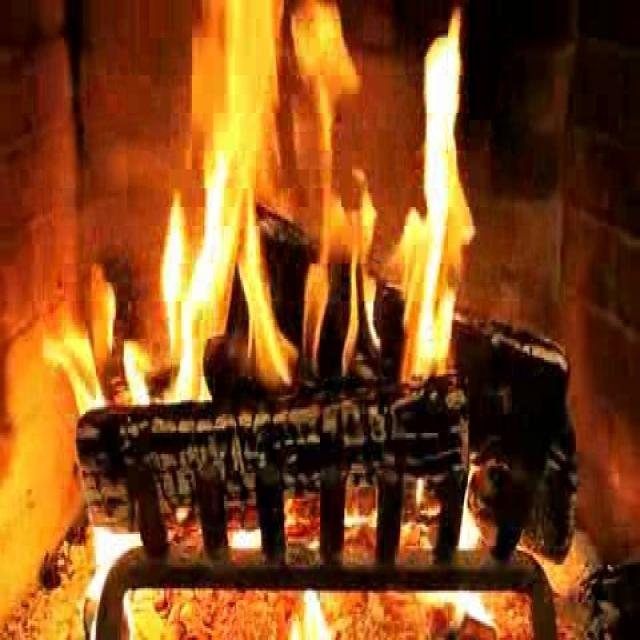fire: (157, 4, 479, 421)
